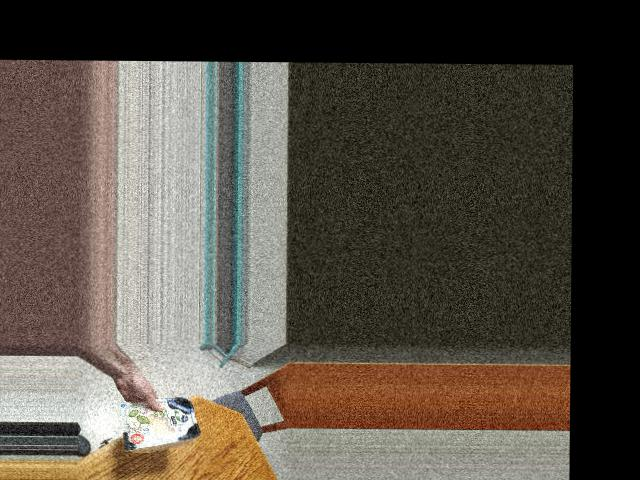cheese: (115, 393, 202, 442)
